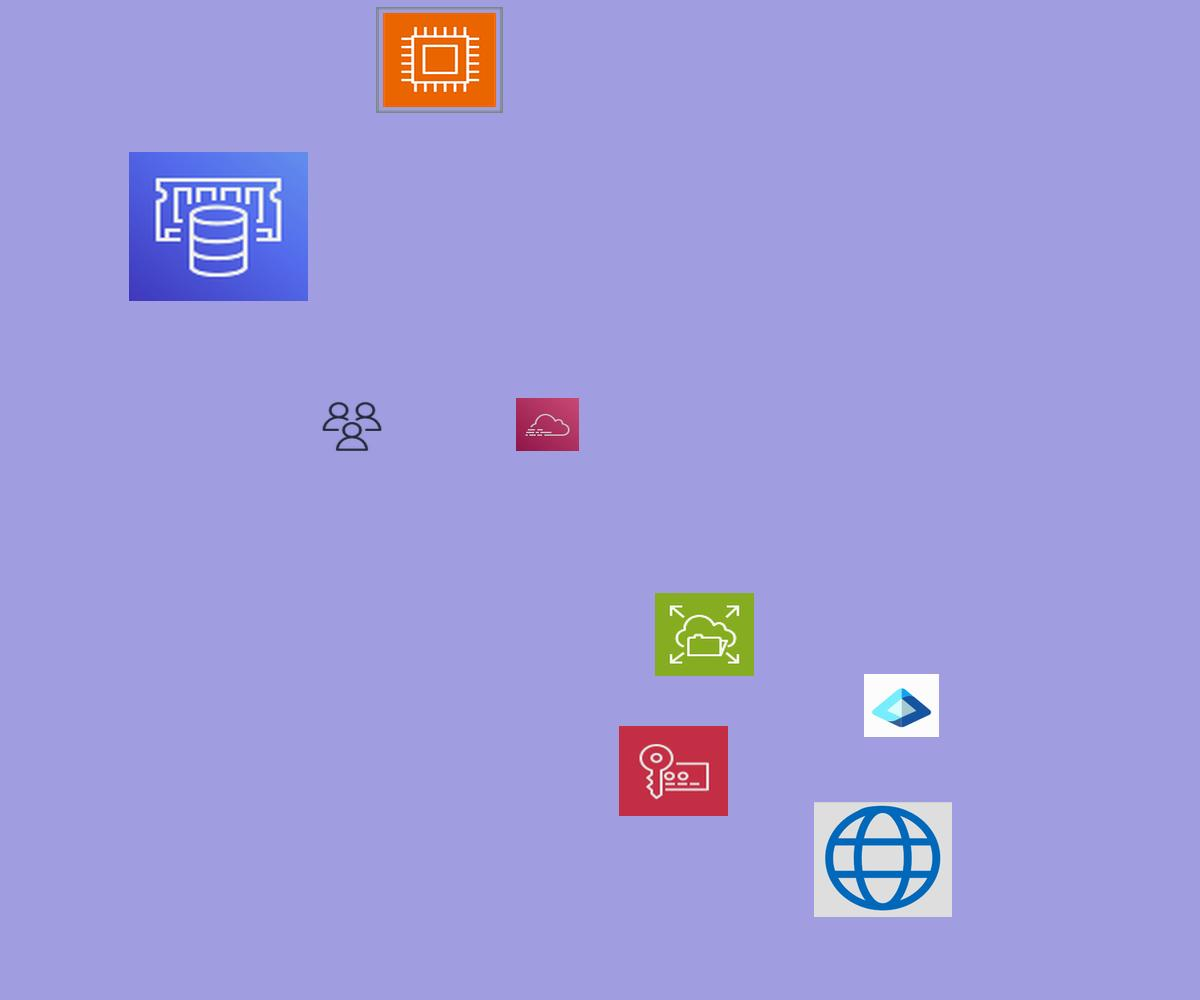AWS-Category_Compute: (376, 7, 503, 113)
AWS-CloudTrail: (516, 398, 579, 451)
AWS-EFS: (655, 593, 754, 676)
AWS-ElastiCache: (129, 152, 308, 301)
AWS-Key-Management-Service: (619, 726, 728, 816)
AWS-Res_Users: (320, 400, 384, 453)
Azure_http: (814, 802, 952, 917)
Azure_microsoft_entra: (864, 674, 939, 737)
